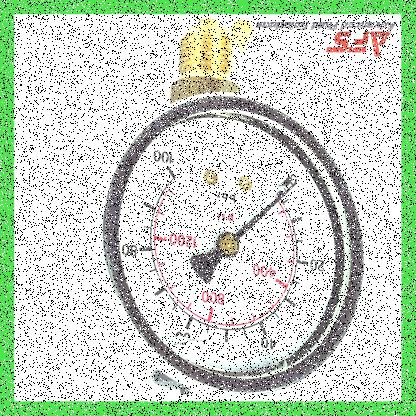needle: (233, 186, 292, 243)
